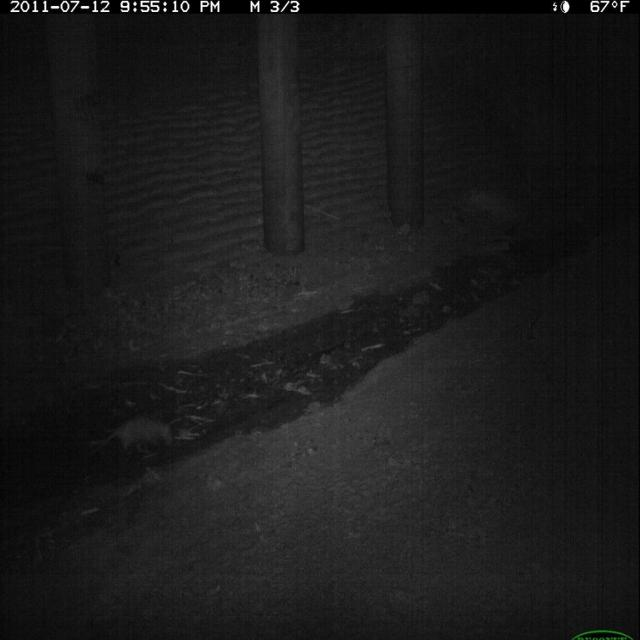opossum: (80, 409, 180, 463)
